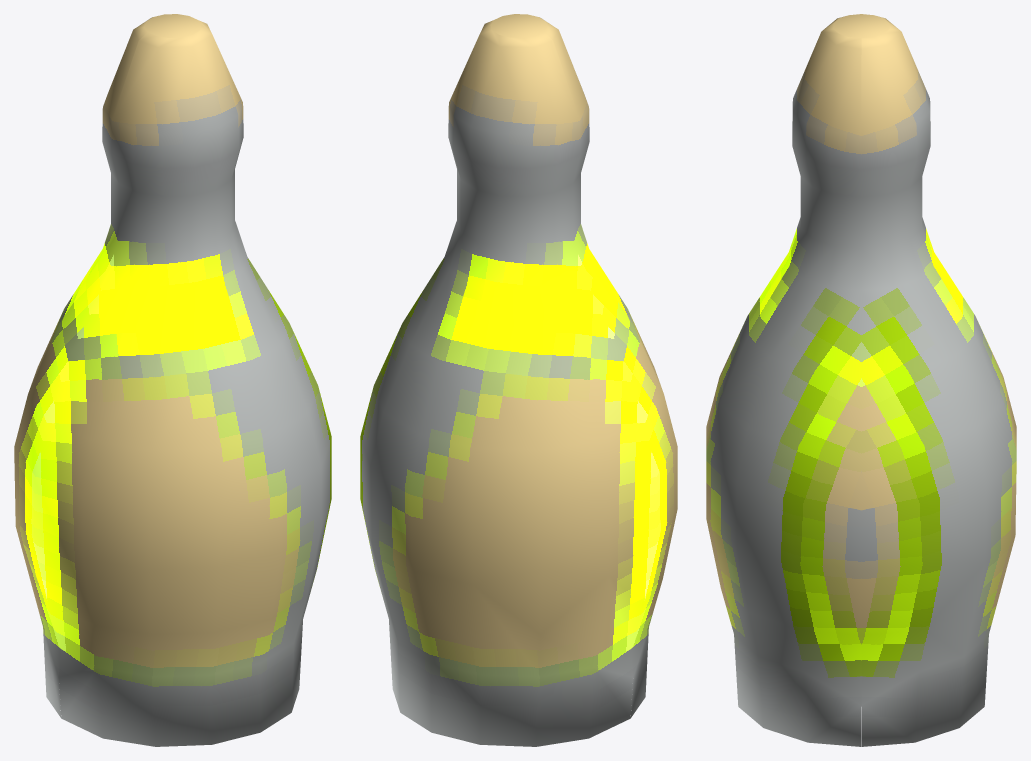
The model's file is bar_bottle_1_a.glb.
3 views of the same model, side by side, from view 1: azimuth 30°, elevation 25°; view 2: azimuth 150°, elevation 25°; view 3: azimuth 270°, elevation 25° (orthographic).
Visible parts, largest first — view 1: bar_bottle_1; view 2: bar_bottle_1; view 3: bar_bottle_1.
Boxes of the visible parts, x1,y1,x2,y2 form: bar_bottle_1: (14,14,331,746); bar_bottle_1: (360,14,677,746); bar_bottle_1: (706,14,1016,746).
Bounding box in the file's own units: 0.1155 × 0.268 × 0.1126.
1 material, 1 textured.
